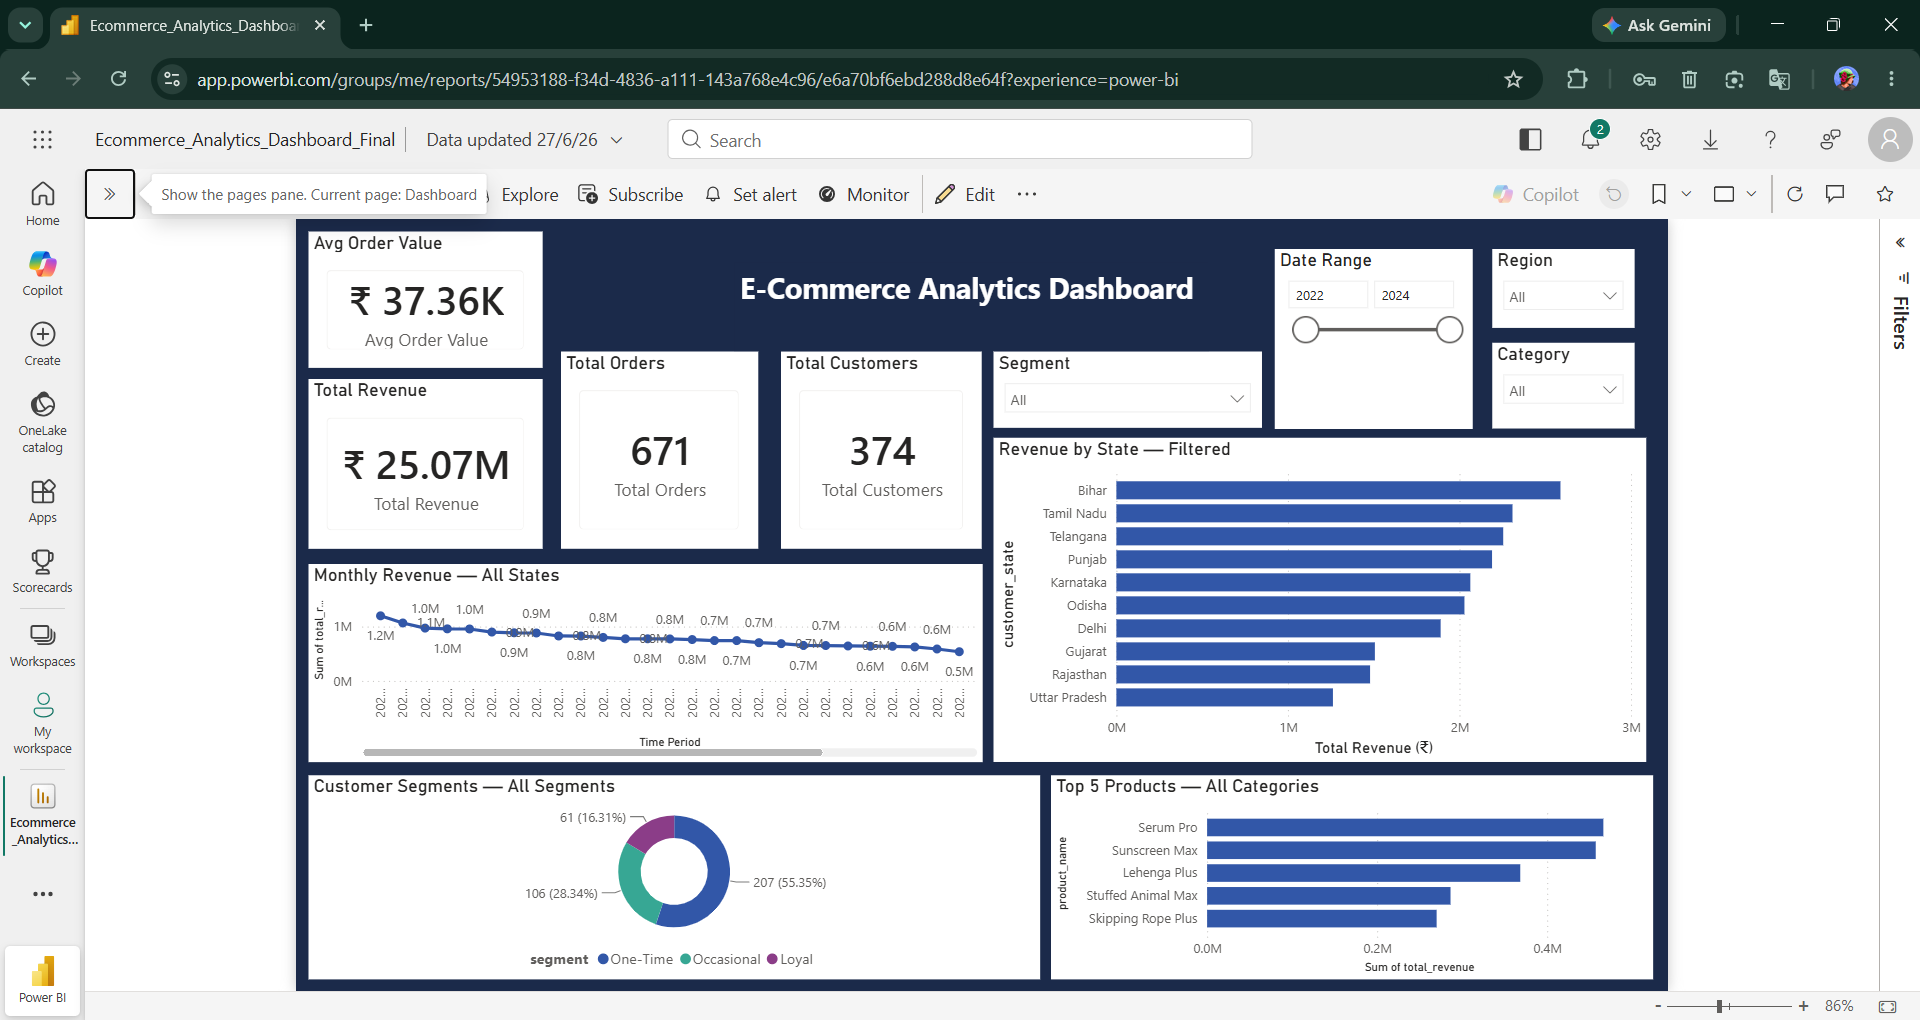

Layout of this report page (visuals, bound fields, positions):
{"tool":"powerbi","page":{"name":"Dashboard","canvas":[1280,720],"ordinal":0},"visuals":[{"type":"cardVisual","title":"Total Revenue","fields":{"Data":["_Measures.Total Sales"]},"box":[11.2,148.8,218.8,158.8],"z":0},{"type":"cardVisual","title":"Total Orders","fields":{"Data":["_Measures.Total Orders"]},"box":[247.5,123.8,183.8,183.8],"z":1000},{"type":"cardVisual","title":"Total Customers","fields":{"Data":["_Measures.Total Customers"]},"box":[452.5,123.8,187.5,183.8],"z":2000},{"type":"cardVisual","title":"Avg Order Value","fields":{"Data":["_Measures.Avg Order Value"]},"box":[11.2,11.2,218.8,127.5],"z":3000},{"type":"lineChart","fields":{"Category":["MonthlySales.YearMonth"],"Y":["Sum(MonthlySales.total_revenue)"]},"box":[11.2,321.2,628.8,185],"z":4000},{"type":"clusteredBarChart","fields":{"Category":["ProductSummary.product_name"],"Y":["Sum(ProductSummary.total_revenue)"]},"box":[703.8,518.8,561.2,190],"z":5000},{"type":"donutChart","fields":{"Category":["CustomerSummary.segment"],"Y":["_Measures.Total Customers"]},"box":[11.2,518.8,682.5,190],"z":6000},{"type":"clusteredBarChart","fields":{"Category":["MonthlySales.customer_state"],"Y":["Sum(MonthlySales.total_revenue)"]},"box":[650,203.8,608.8,302.5],"z":7000},{"type":"slicer","title":"Date Range","fields":{"Values":["MonthlySales.year"]},"box":[912.5,27.5,183.8,167.5],"z":8000},{"type":"slicer","title":"Region","fields":{"Values":["MonthlySales.customer_state"]},"box":[1116.2,27.5,132.5,73.8],"z":8001},{"type":"slicer","title":"Category","fields":{"Values":["CategorySummary.product_category"]},"box":[1116.2,115,132.5,80],"z":8002},{"type":"slicer","title":"Segment","fields":{"Values":["CustomerSummary.segment"]},"box":[650,123.8,250,71.2],"z":8003},{"type":"textbox","box":[408.8,41.2,441.2,82.5],"z":8004}]}

Visuals, with their boxes on the page's 1280x720 design canvas (x1, y1, x2, y2). These are canvas units, not pixel positions in the 1920x1020 screenshot, which may show the page scaled, cropped or inside an application window:
"Total Revenue" cardVisual: x1=11 y1=149 x2=230 y2=308
"Total Orders" cardVisual: x1=248 y1=124 x2=431 y2=308
"Total Customers" cardVisual: x1=452 y1=124 x2=640 y2=308
"Avg Order Value" cardVisual: x1=11 y1=11 x2=230 y2=139
lineChart - MonthlySales.YearMonth x Sum(MonthlySales.total_revenue): x1=11 y1=321 x2=640 y2=506
clusteredBarChart - ProductSummary.product_name x Sum(ProductSummary.total_revenue): x1=704 y1=519 x2=1265 y2=709
donutChart - CustomerSummary.segment x _Measures.Total Customers: x1=11 y1=519 x2=694 y2=709
clusteredBarChart - MonthlySales.customer_state x Sum(MonthlySales.total_revenue): x1=650 y1=204 x2=1259 y2=506
"Date Range" slicer: x1=912 y1=28 x2=1096 y2=195
"Region" slicer: x1=1116 y1=28 x2=1249 y2=101
"Category" slicer: x1=1116 y1=115 x2=1249 y2=195
"Segment" slicer: x1=650 y1=124 x2=900 y2=195
textbox: x1=409 y1=41 x2=850 y2=124
